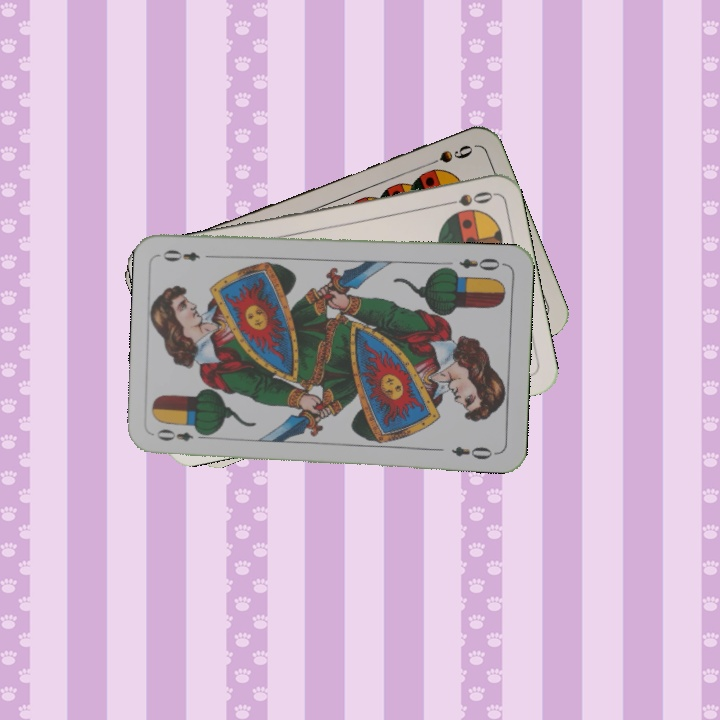EO: (152, 425, 210, 444), (455, 254, 507, 273)
S9: (419, 141, 476, 171)
SO: (436, 187, 496, 209)
